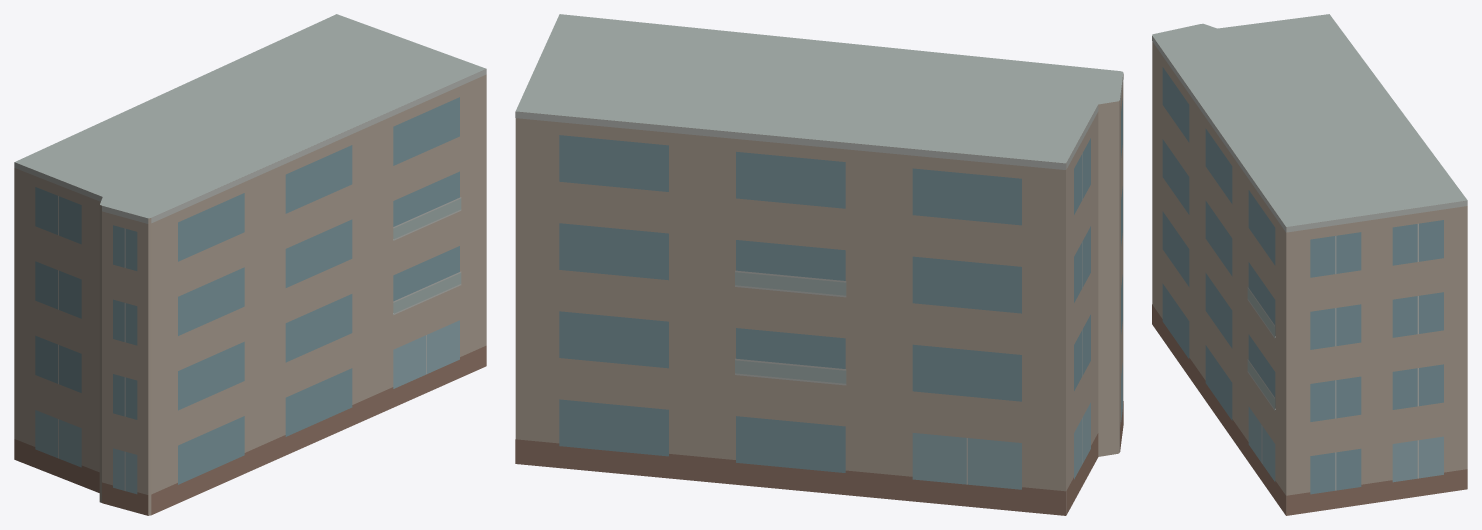
The model's file is survey-upis-33017507.glb.
3 renders of one model, left to right at view 1: azimuth 30°, elevation 25°; view 2: azimuth 150°, elevation 25°; view 3: azimuth 270°, elevation 25°, orthographic. The views are drawn at different scales.
Visible parts, largest first — view 1: survey-upis-33017507.tmp; view 2: survey-upis-33017507.tmp; view 3: survey-upis-33017507.tmp.
Part boxes in pixels (<box>): survey-upis-33017507.tmp: <box>14,14,486,515</box>; survey-upis-33017507.tmp: <box>515,14,1123,515</box>; survey-upis-33017507.tmp: <box>1152,14,1467,515</box>.
Size of the model in its own units: 20.27 by 12.8 by 12.69.
